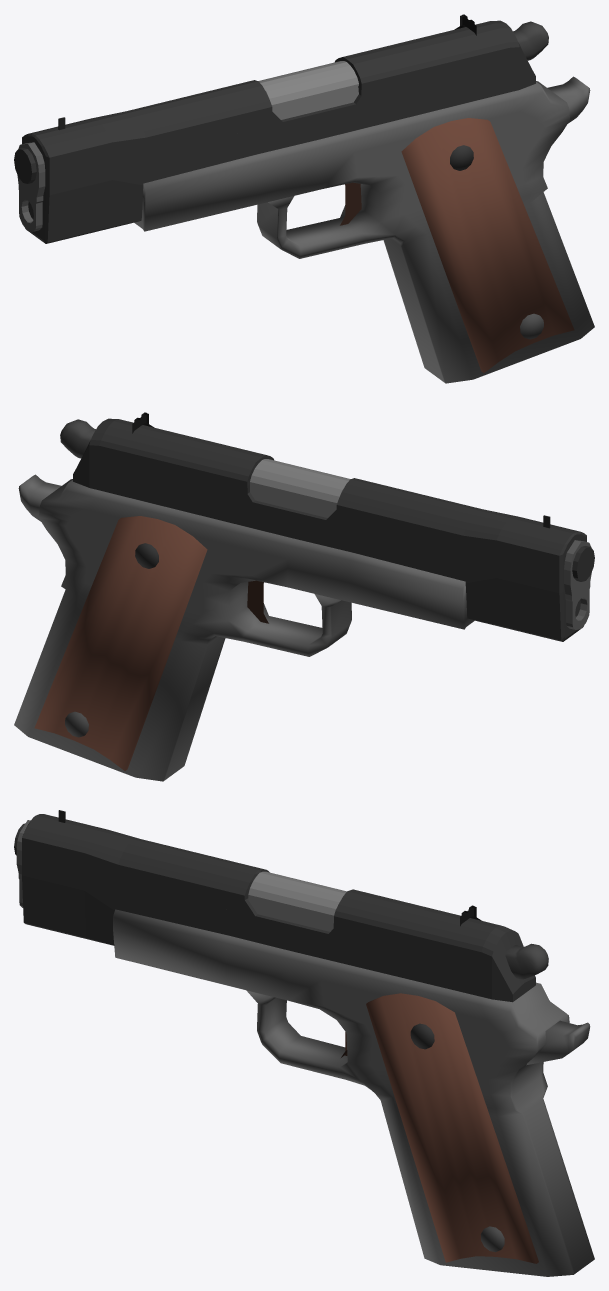
Rendered from Glock.fbx.
3 views of the same model, one above another, from view 1: azimuth 30°, elevation 25°; view 2: azimuth 150°, elevation 25°; view 3: azimuth 330°, elevation 25° (orthographic).
Visible parts, largest first — view 1: Handle_Cube.002; view 2: Handle_Cube.002; view 3: Handle_Cube.002.
Boxes of the visible parts, x1=… form: Handle_Cube.002: x1=14, y1=14, x2=594, y2=383; Handle_Cube.002: x1=14, y1=412, x2=594, y2=781; Handle_Cube.002: x1=14, y1=810, x2=594, y2=1276.
Size of the model in its own units: 196 by 117 by 24.49.
